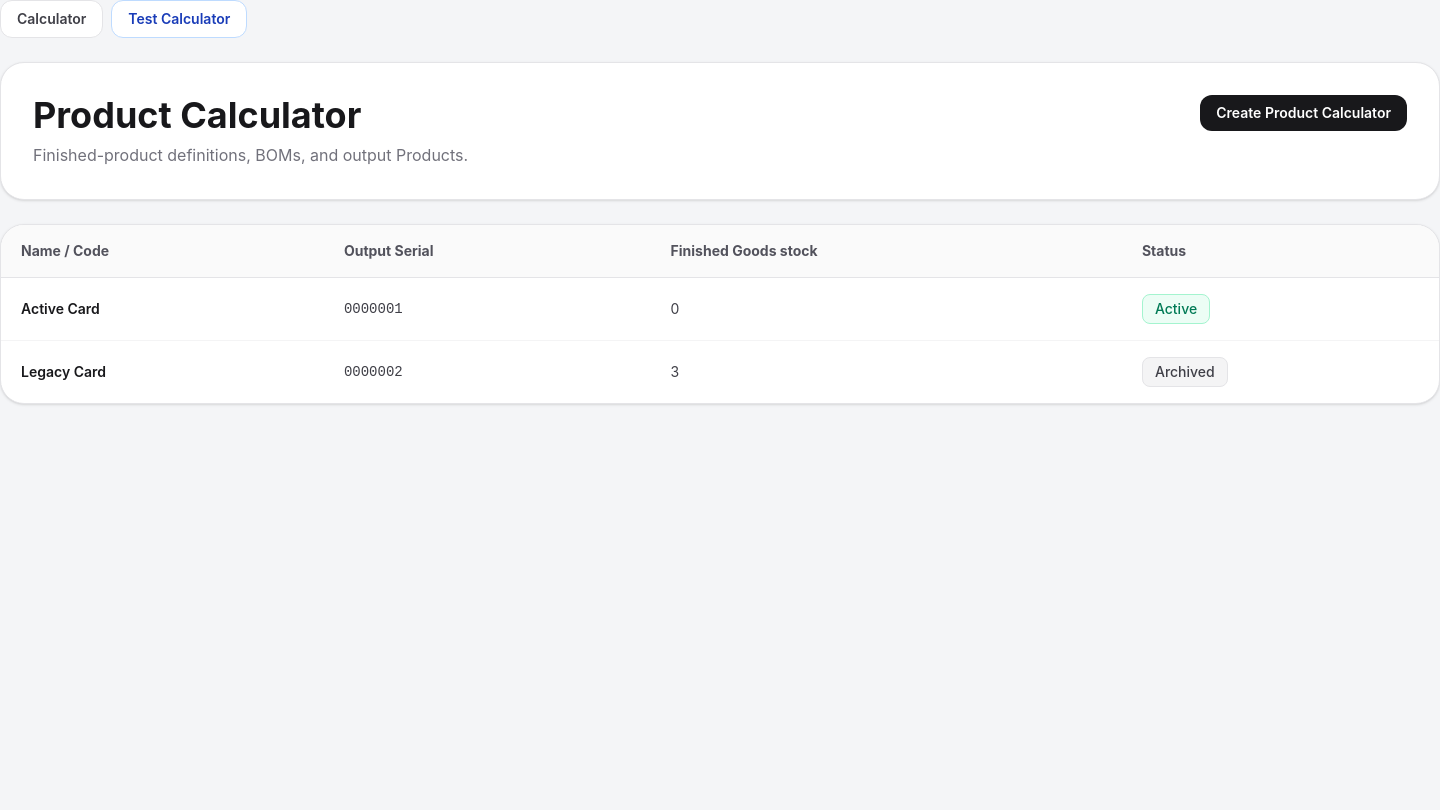
Test: PCB list and creation › prevents duplicate submits and keeps safe backend errors visible
Click the button "Create Product Calculator". click: (1304, 113)
box: [1200,95,1407,131]
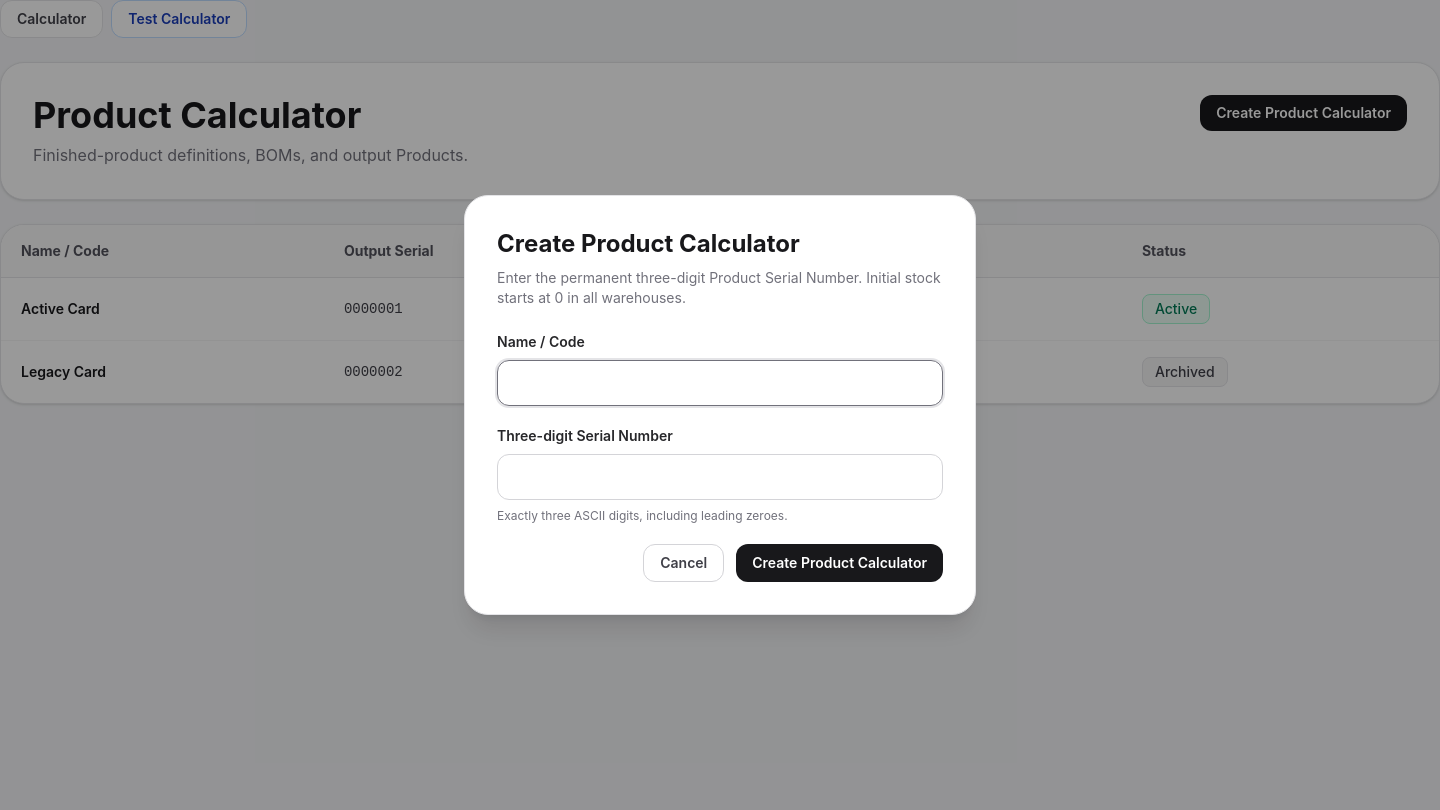
Type "Card" into the field labelled "Name / Code". click: (720, 383)
box: [497,360,943,406]
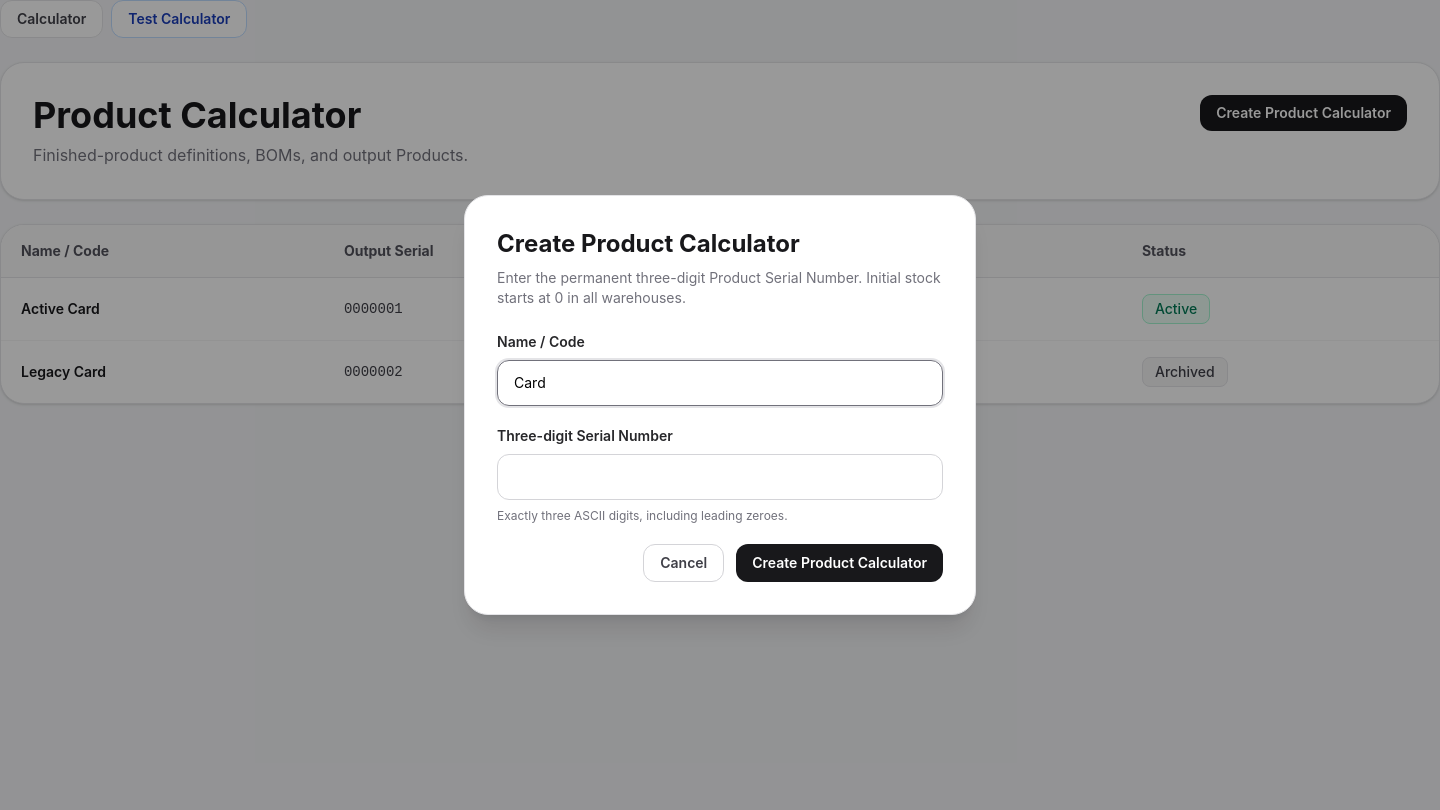
Type "123" into the field labelled "Three-digit Serial Number". click: (720, 477)
box: [497,454,943,500]
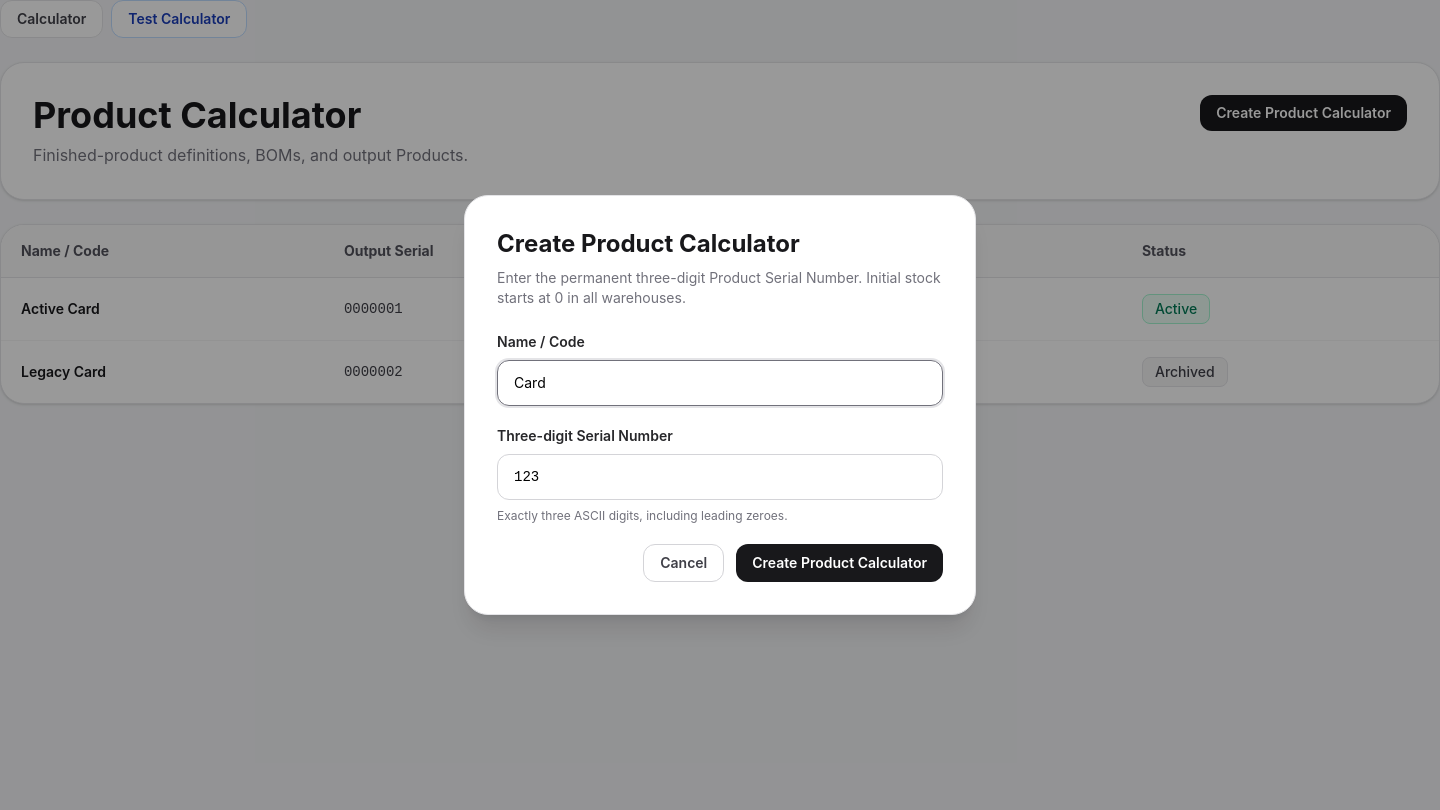
Click the button "Create Product Calculator". click: (840, 563)
box: [736,544,943,582]
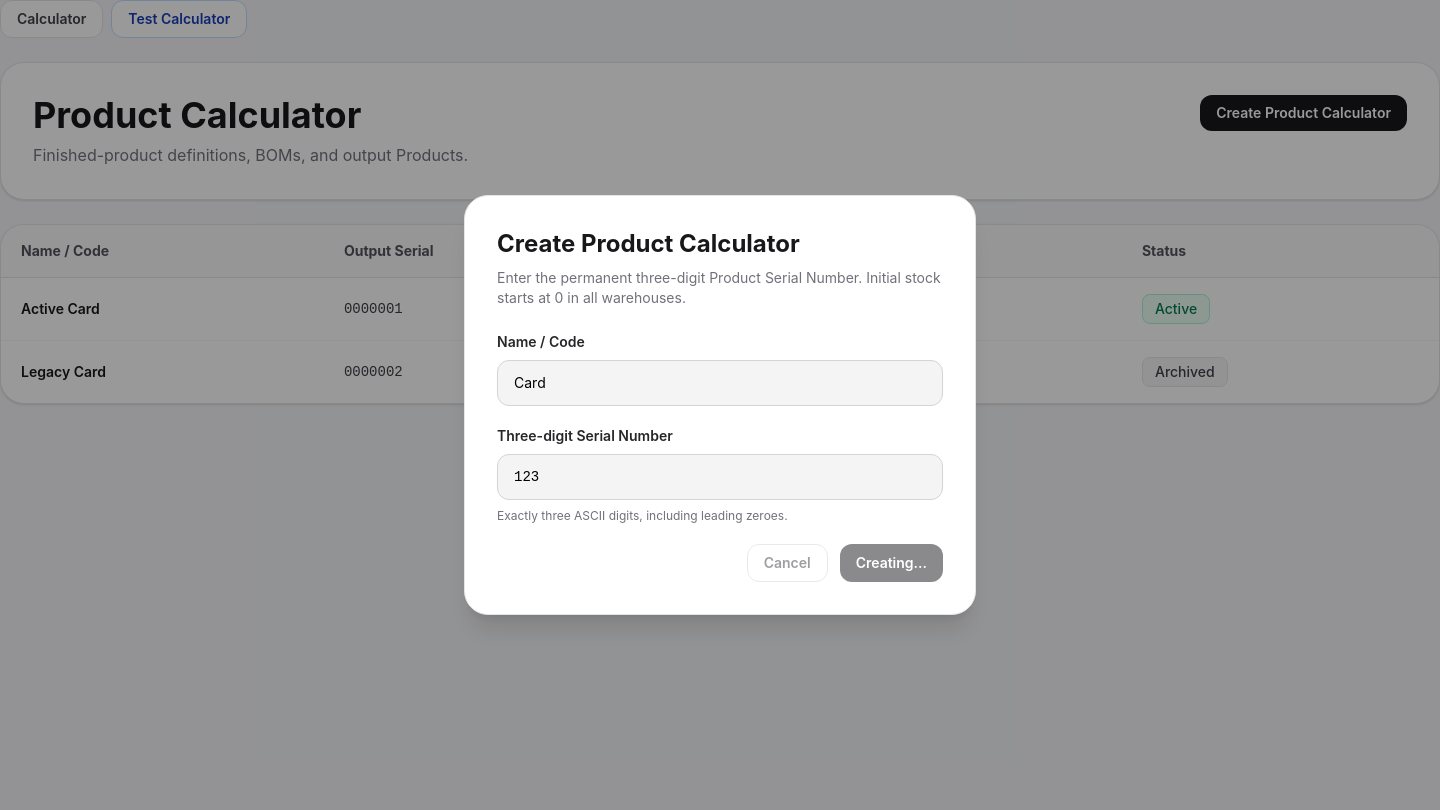
Click the button named "Create Product Calculator". click: (891, 563)
box: [840,544,943,582]
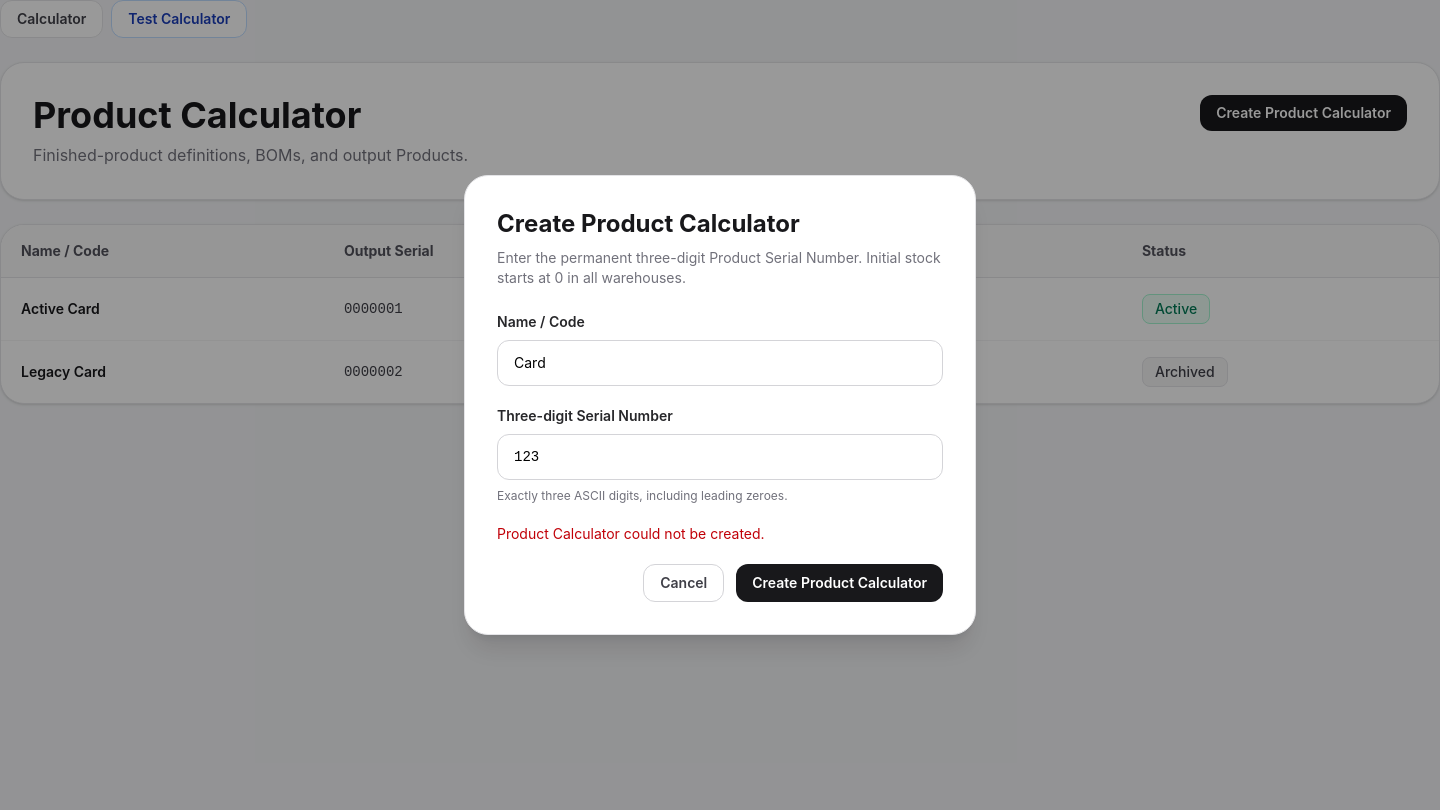
expect the dialog is shown: met, box [464,175,976,635]
expect the message shows "could not be created": met, box [497,525,765,542]
